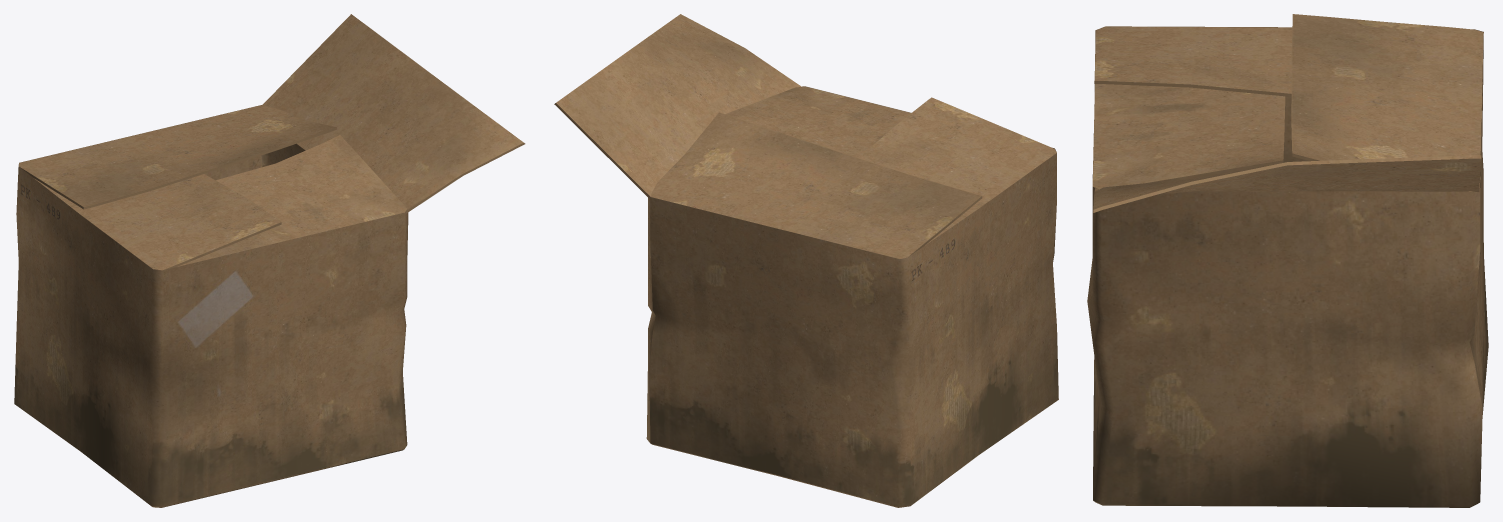
3 renders of one model, left to right at view 1: azimuth 30°, elevation 25°; view 2: azimuth 150°, elevation 25°; view 3: azimuth 270°, elevation 25°, orthographic. The views are drawn at different scales.
Visible parts, largest first — view 1: polySurface2.036; view 2: polySurface2.036; view 3: polySurface2.036.
Boxes of the visible parts, x1,y1,x2,y2 form: polySurface2.036: (14, 14, 525, 507); polySurface2.036: (554, 14, 1058, 507); polySurface2.036: (1087, 14, 1488, 507).
Size of the model in its own units: 60.07 by 47.72 by 42.55.
1 material, 1 textured.
